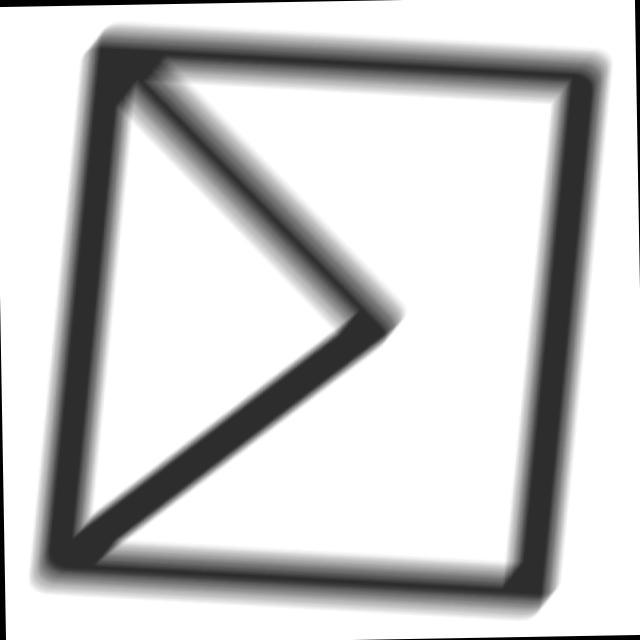letter: (7, 15, 619, 634)
